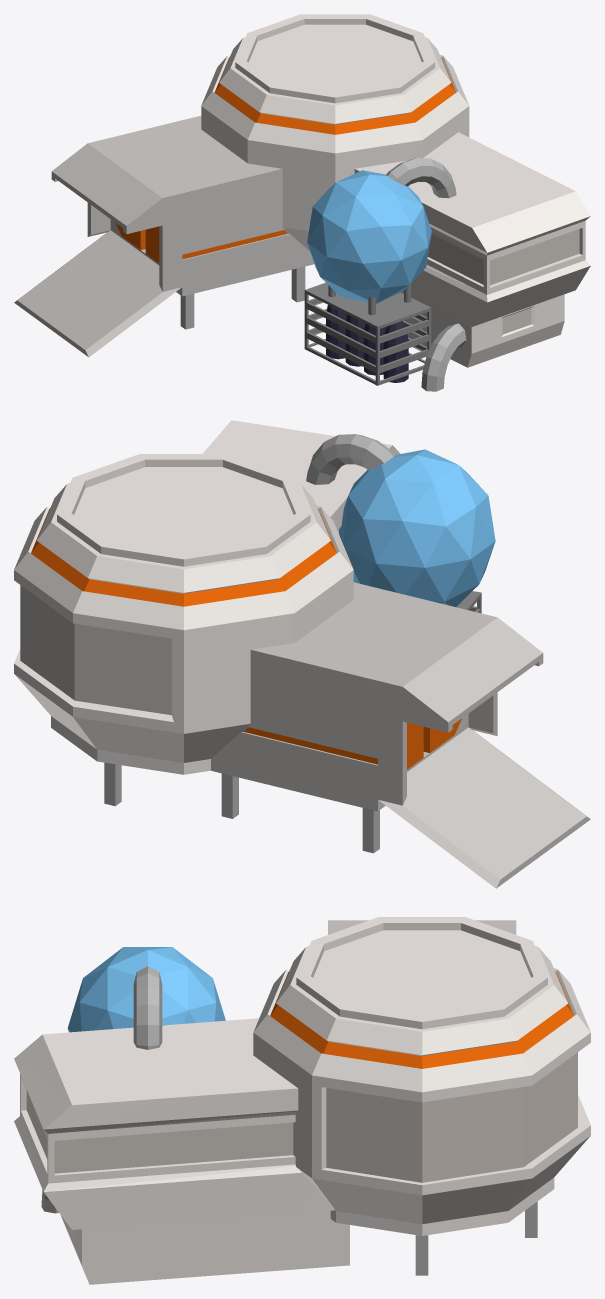
Rendered from Mars-One_research_institute.FBX.
3 views of the same model, one above another, from view 1: azimuth 30°, elevation 25°; view 2: azimuth 150°, elevation 25°; view 3: azimuth 270°, elevation 25° (orthographic). The views are drawn at different scales.
Parts seen in each view (by area): view 1: Box001; view 2: Box001; view 3: Box001.
Part boxes in pixels (<box>): Box001: <box>14,14,590,391</box>; Box001: <box>14,420,590,888</box>; Box001: <box>14,917,590,1284</box>.
Bounding box in the file's own units: 1.53 × 0.7788 × 1.51.
1 material, 1 textured.
